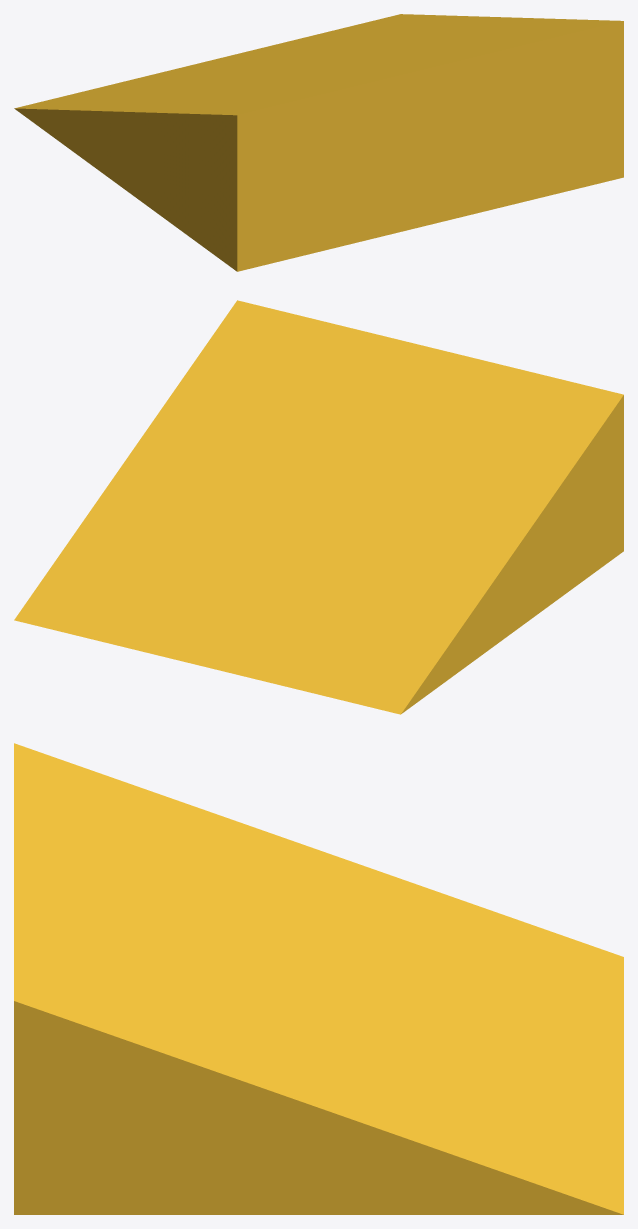
File: jump.fbx
3 views of the same model, one above another, from view 1: azimuth 30°, elevation 25°; view 2: azimuth 150°, elevation 25°; view 3: azimuth 270°, elevation 25° (orthographic). The views are drawn at different scales.
Parts seen in each view (by area): view 1: jump; view 2: jump; view 3: jump.
Boxes of the visible parts, x1,y1,x2,y2 form: jump: (14,14,623,271); jump: (14,300,623,714); jump: (14,743,623,1214).
Bounding box in the file's own units: 200 × 77.39 × 200.
Materials: 1 (1 with a texture image).
